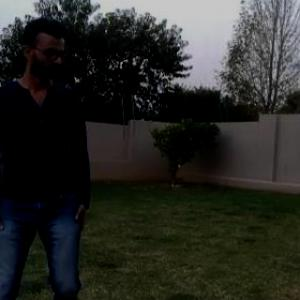follow: (0, 0, 105, 299)
